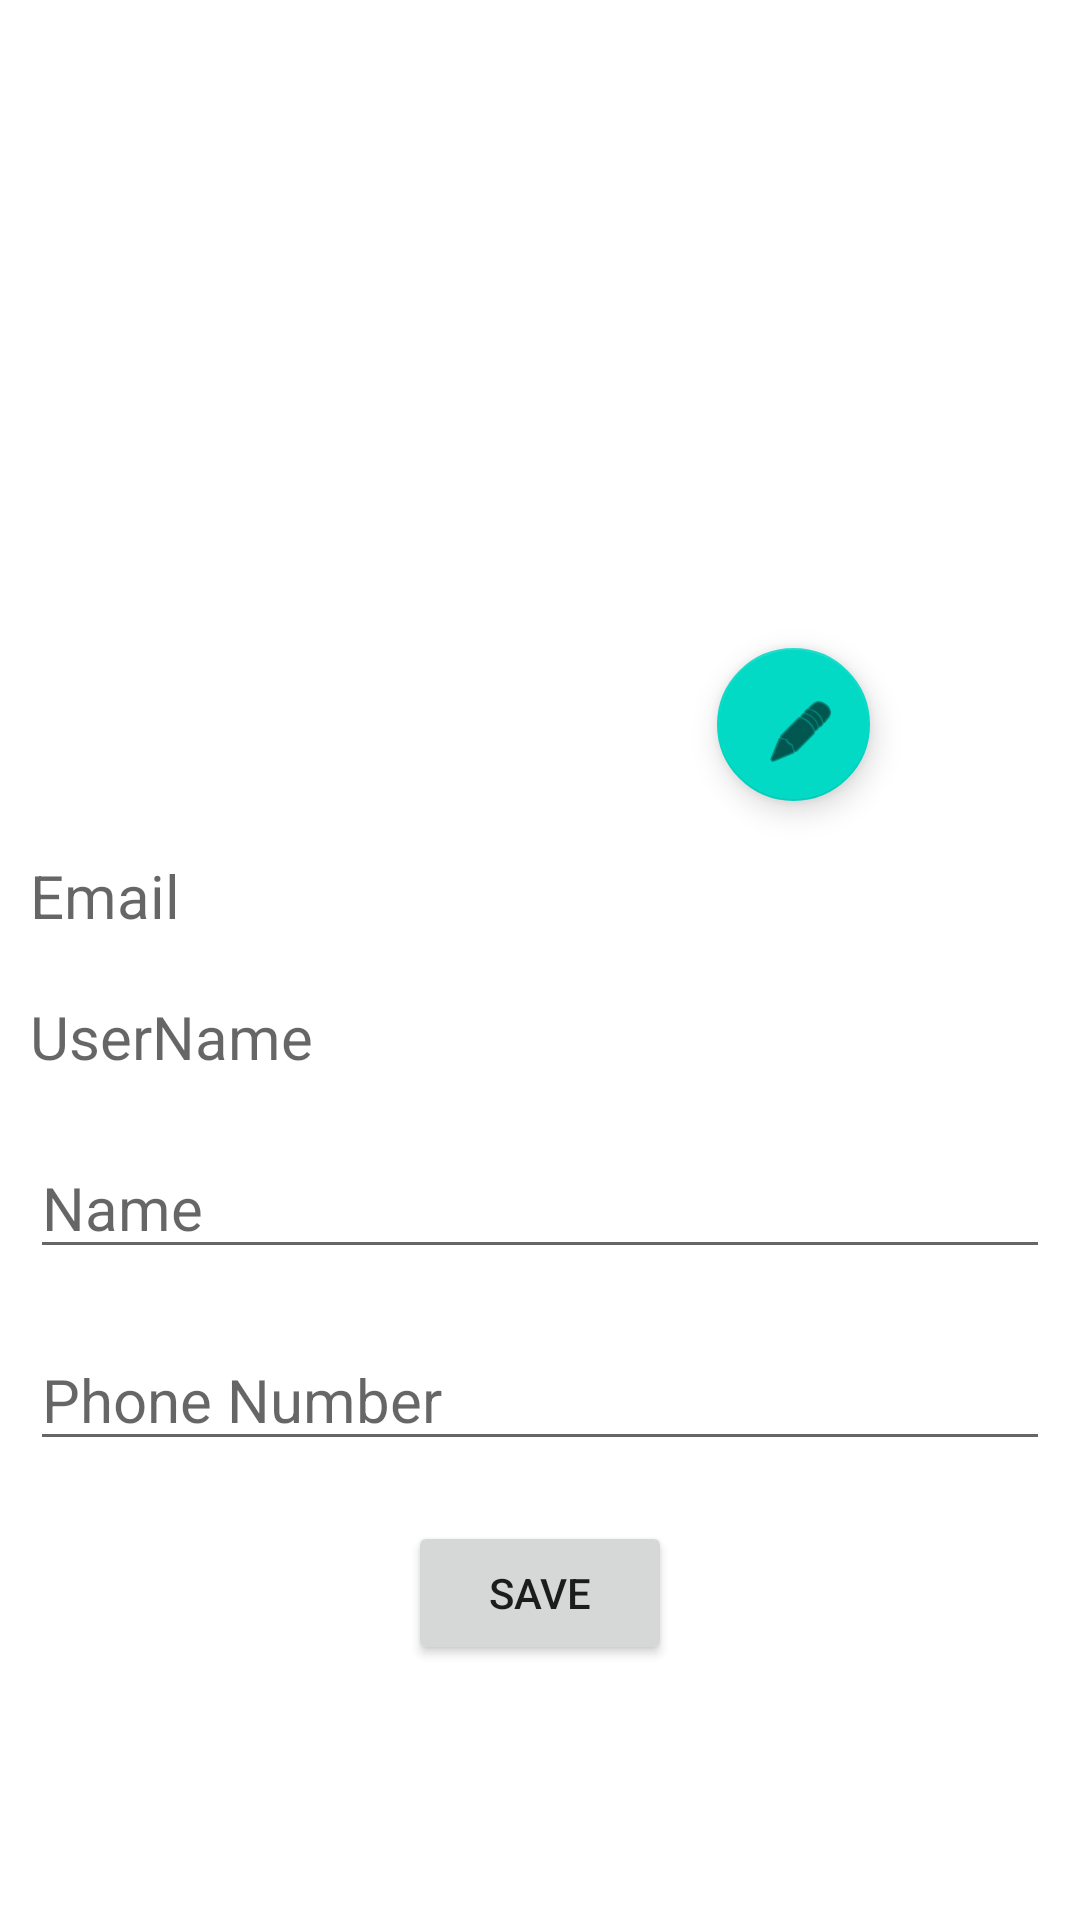

Locate icon controls on the screen. Image size 1080 × 1920, boxes as (x1, y1, x2, y2).
edit: (717, 648, 870, 801)
